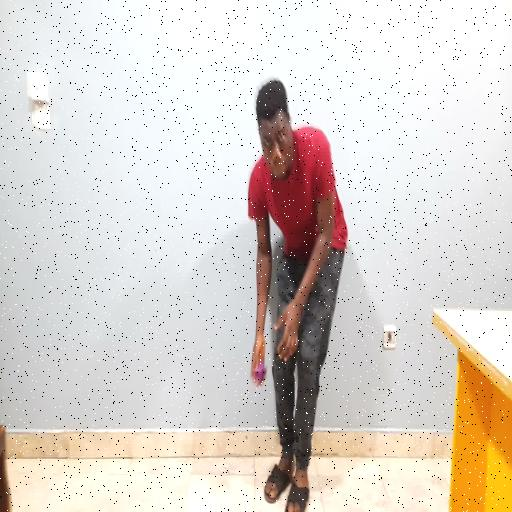plastic-ball: (254, 364, 266, 383)
